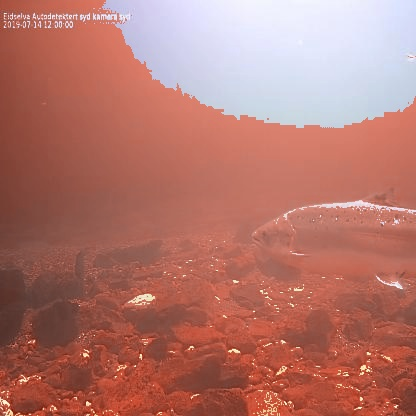salmon: (247, 183, 416, 295)
